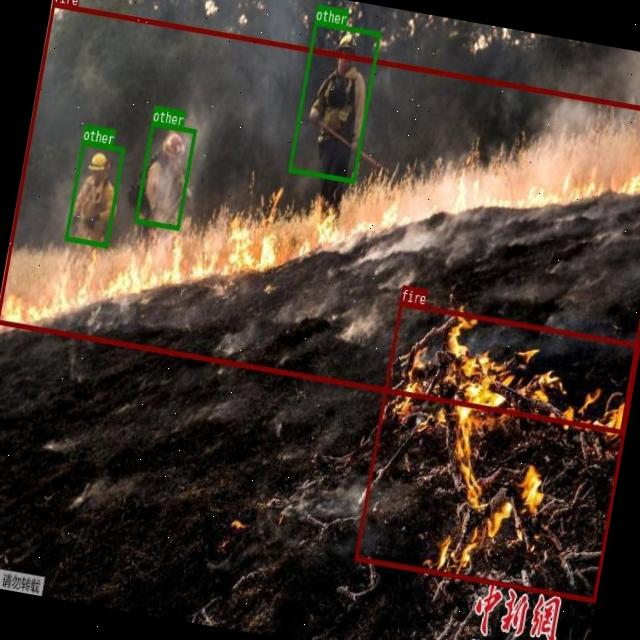fire: (0, 2, 640, 434), (354, 300, 640, 600)
